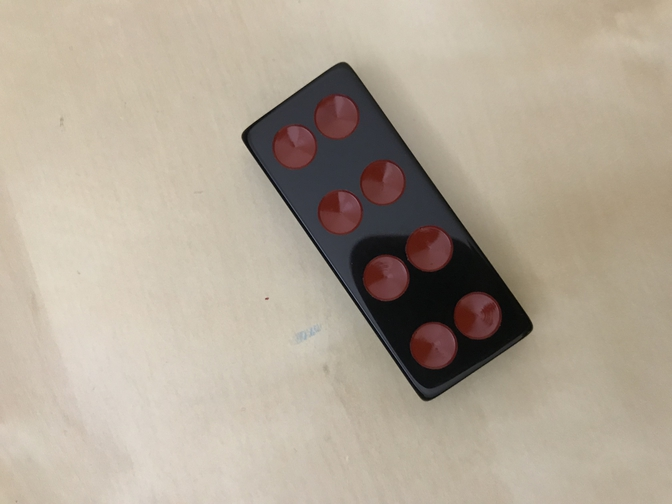man: (240, 62, 535, 402)
